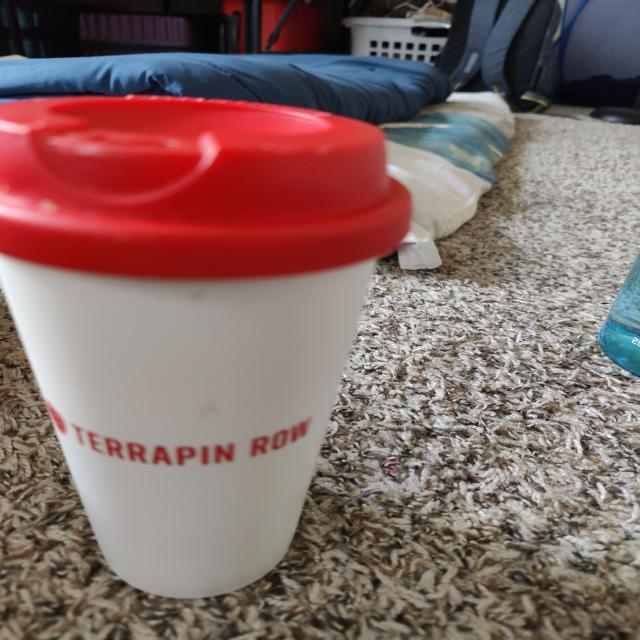mug: (0, 107, 398, 584)
